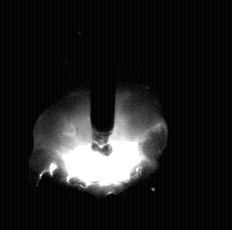arame: (91, 0, 116, 154)
poca: (34, 0, 168, 230)
